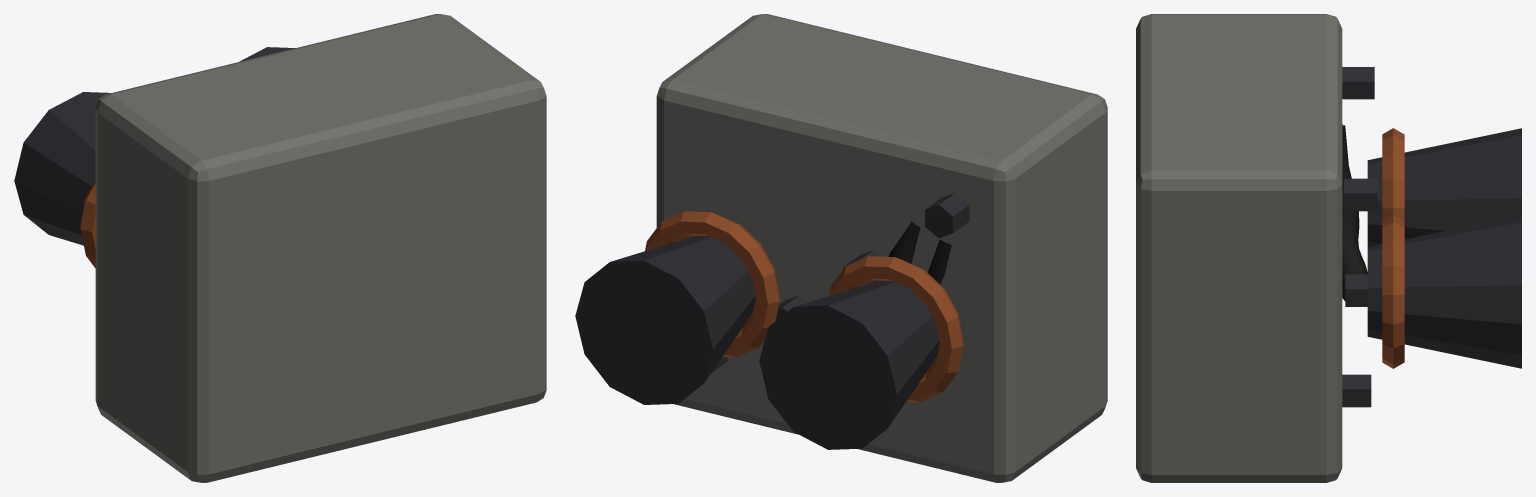
Rendered from mo_jumpjets.glb.
3 views of the same model, side by side, from view 1: azimuth 30°, elevation 25°; view 2: azimuth 150°, elevation 25°; view 3: azimuth 270°, elevation 25° (orthographic). The views are drawn at different scales.
Parts seen in each view (by area): view 1: mo_jumpjets; view 2: mo_jumpjets; view 3: mo_jumpjets.
Boxes of the visible parts, <box> form: mo_jumpjets: <box>14,14,546,482</box>; mo_jumpjets: <box>575,14,1107,482</box>; mo_jumpjets: <box>1136,14,1521,482</box>.
Bounding box in the file's own units: 0.1337 × 0.1152 × 0.1291.
